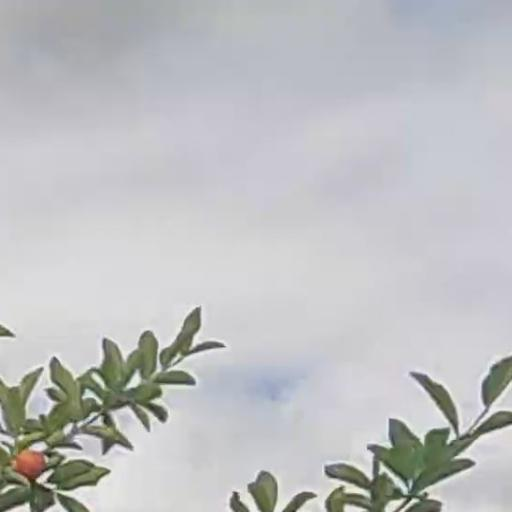acerola_vermelha: (17, 452, 44, 478)
